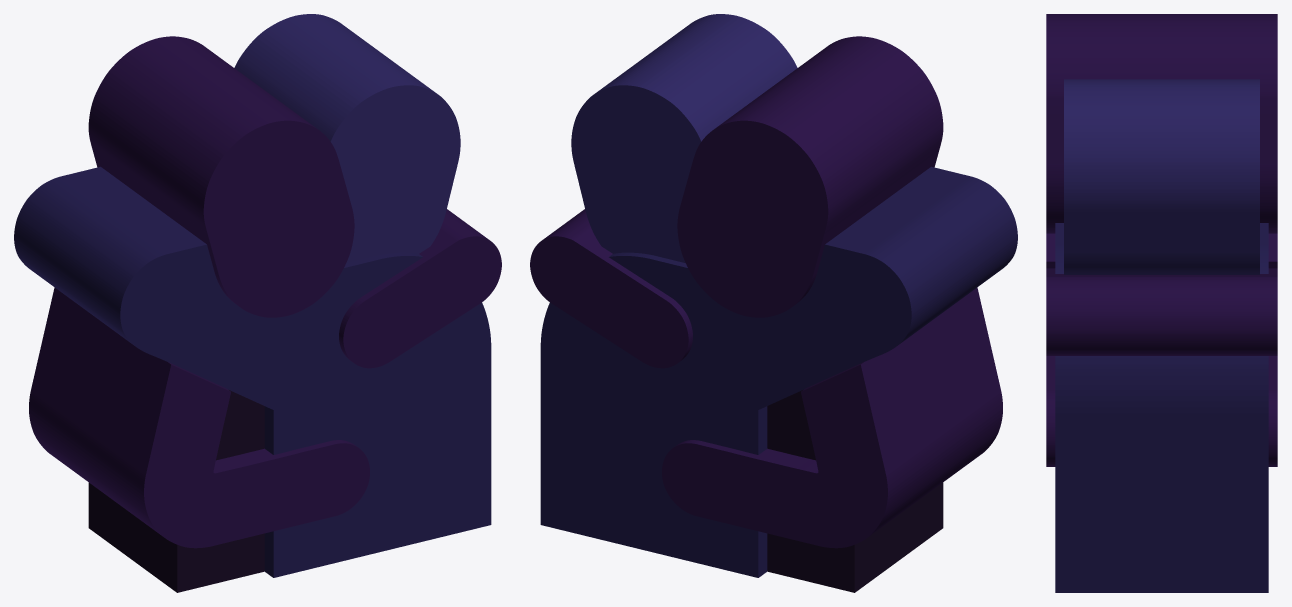
The model's file is U+1FAC2.obj.
3 views of the same model, side by side, from view 1: azimuth 30°, elevation 25°; view 2: azimuth 150°, elevation 25°; view 3: azimuth 270°, elevation 25° (orthographic).
Parts seen in each view (by area): view 1: U+1FAC2_layer03_obj00, U+1FAC2_layer02_obj00, U+1FAC2_layer01_obj00, U+1FAC2_layer00_obj00; view 2: U+1FAC2_layer03_obj00, U+1FAC2_layer02_obj00, U+1FAC2_layer01_obj00, U+1FAC2_layer00_obj00; view 3: U+1FAC2_layer02_obj00, U+1FAC2_layer03_obj00, U+1FAC2_layer01_obj00.
Boxes of the visible parts, x1,y1,x2,y2 form: U+1FAC2_layer03_obj00: (29,36,501,548); U+1FAC2_layer02_obj00: (14,166,491,577); U+1FAC2_layer01_obj00: (234,14,460,262); U+1FAC2_layer00_obj00: (88,390,264,592); U+1FAC2_layer03_obj00: (530,36,1002,548); U+1FAC2_layer02_obj00: (540,166,1017,577); U+1FAC2_layer01_obj00: (571,14,797,262); U+1FAC2_layer00_obj00: (767,390,943,592); U+1FAC2_layer02_obj00: (1055,223,1268,592); U+1FAC2_layer03_obj00: (1046,14,1277,466); U+1FAC2_layer01_obj00: (1064,79,1259,274).
Size of the model in its own units: 0.4919 by 0.5734 by 0.26.
